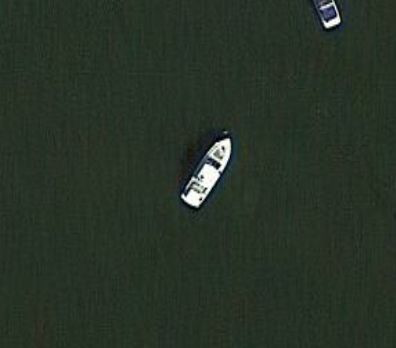boat: (178, 134, 234, 211)
